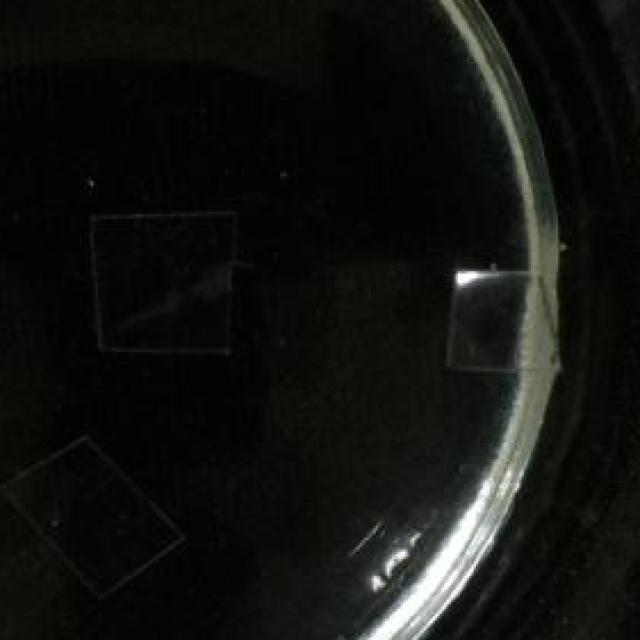Microplastic: (0, 442, 191, 597), (73, 207, 255, 350), (433, 260, 569, 386)
